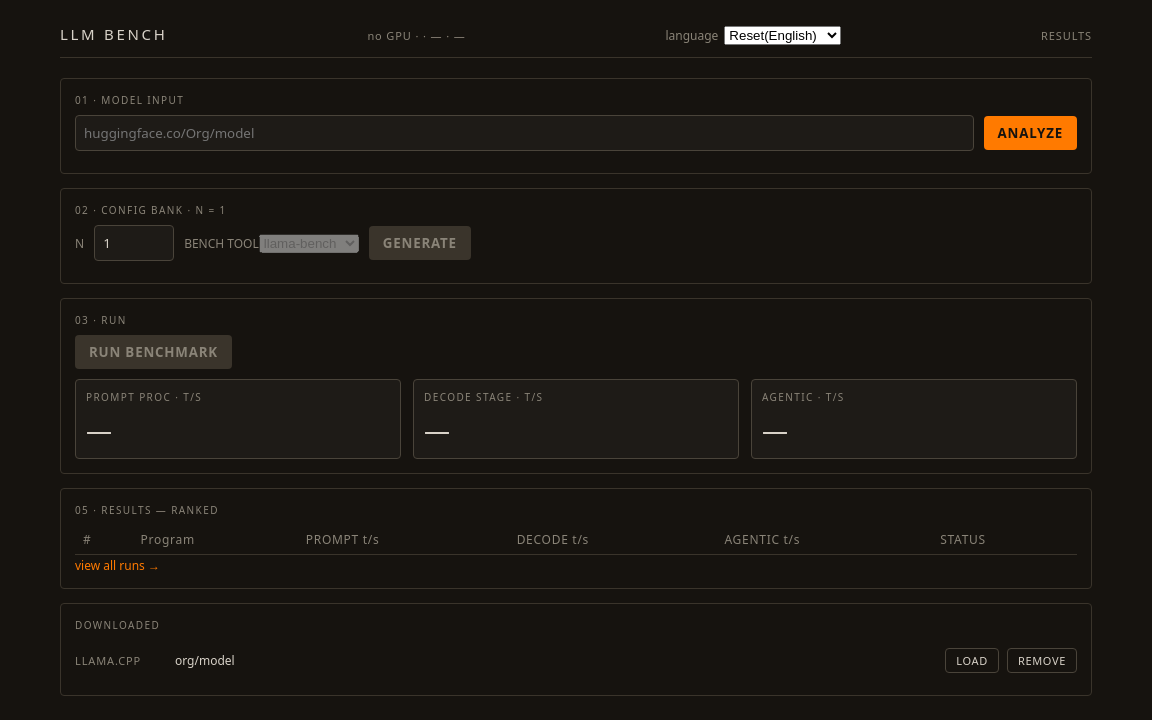
LOAD on a downloaded row fills MODEL INPUT and analyzes
The width and height of the screenshot is (1152, 720).
Expected: the text "llama.cpp" is shown, [75,653,141,668]
Step 1. Click the button "LOAD" → x=972, y=660, box [945,648,999,673]
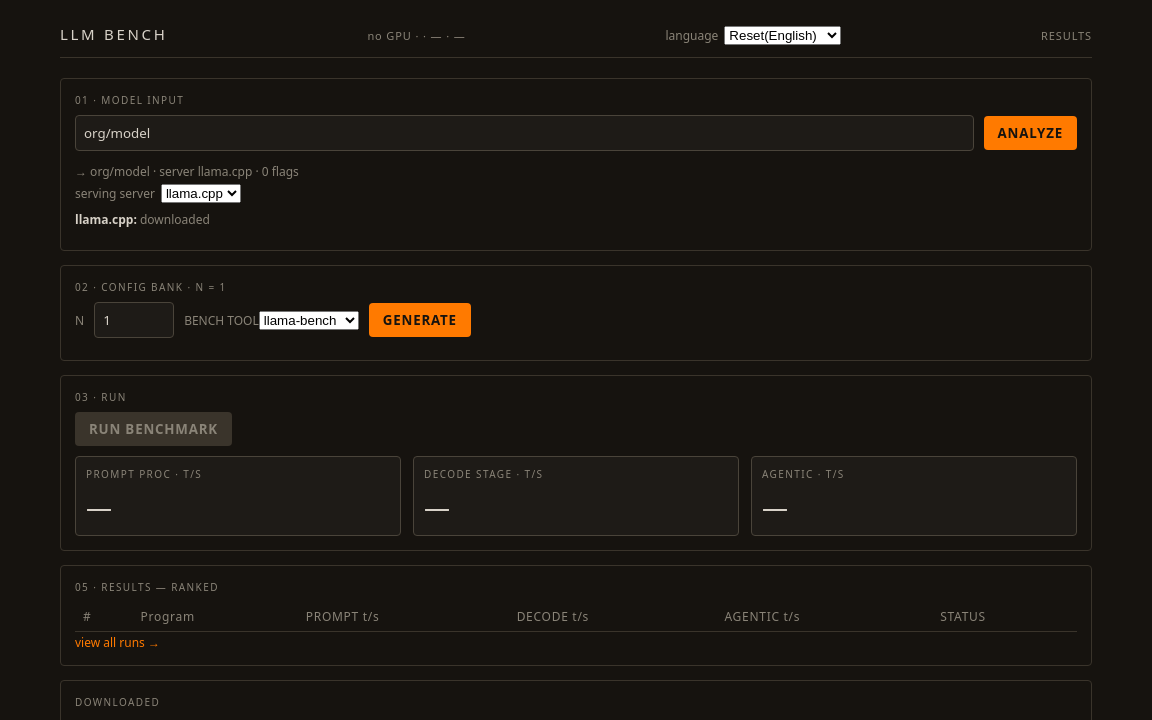
Now the field with placeholder "huggingface.co/Org/model" holds "org/model", box [75,115,974,151]
